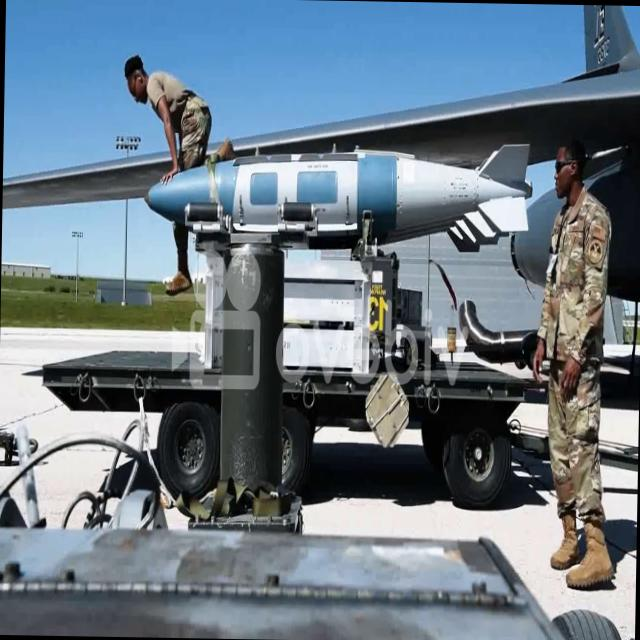rocket: (144, 137, 535, 255)
